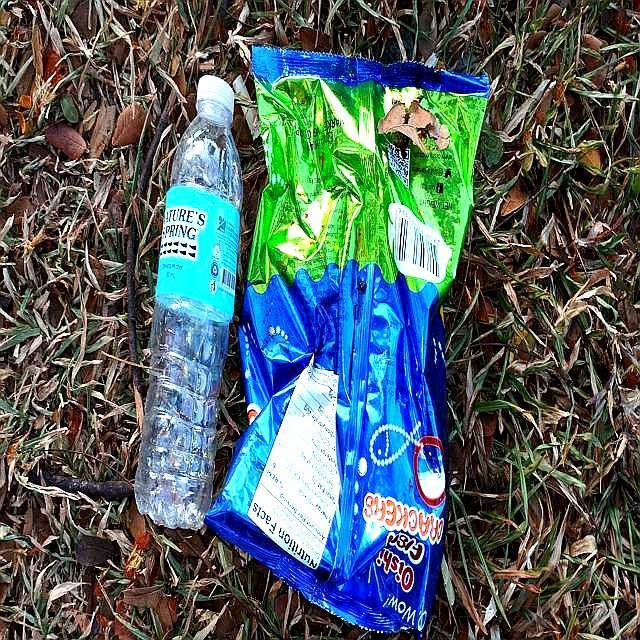Non-biodegradable: (206, 38, 497, 640), (119, 65, 256, 539)
